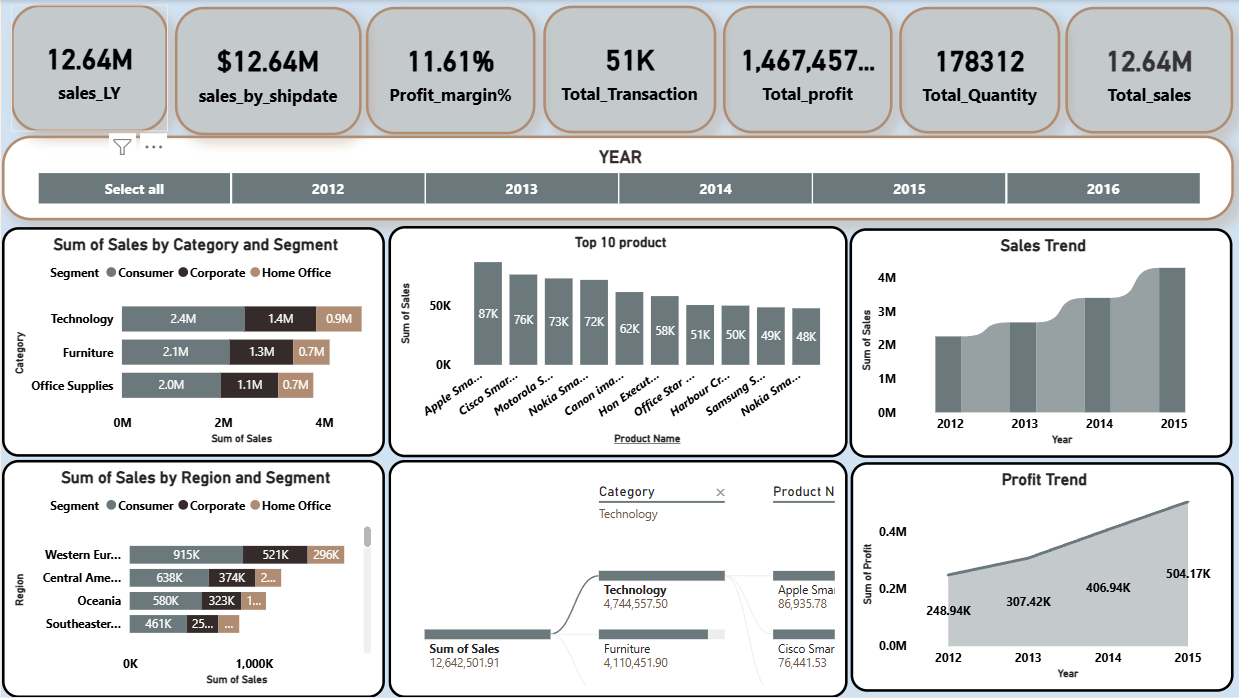

This screenshot's page, from the dashboard's own definition file:
{"tool":"powerbi","page":{"name":"Executive Summary","canvas":[1280,720],"ordinal":0},"visuals":[{"type":"card","fields":{"Values":["Measures_.Total_sales"]},"box":[1098.7,7.2,173.5,131.3],"z":0},{"type":"card","fields":{"Values":["Measures_.Total_Quantity"]},"box":[926.4,7.2,166.2,131.3],"z":1000},{"type":"card","fields":{"Values":["Measures_.Total_profit"]},"box":[744.8,5.8,175.1,131.9],"z":2000},{"type":"card","fields":{"Values":["Measures_.Total_Transaction"]},"box":[559.2,5.8,178.6,131.9],"z":3000},{"type":"card","fields":{"Values":["Measures_.Profit_margin%"]},"box":[375.9,7,175.1,131.9],"z":4000},{"type":"slicer","title":"YEAR","fields":{"Values":["Date_DIM.Year"]},"box":[0,140.1,1272.4,87.6],"z":5000},{"type":"card","fields":{"Values":["Measures_.sales_LY"]},"box":[9.3,4.7,162.3,131.9],"z":6000},{"type":"card","fields":{"Values":["Measures_.sales_by_shipdate"]},"box":[178.6,7,192.6,133.1],"z":7000},{"type":"barChart","fields":{"Y":["Sum(Fact_Table.Sales)"],"Category":["Fact_Table.Category"],"Series":["Fact_Table.Segment"]},"box":[0,234.9,395.1,237.3],"z":8000},{"type":"decompositionTreeVisual","fields":{"Analyze":["Sum(Fact_Table.Sales)"],"ExplainBy":["Fact_Table.Category","Fact_Table.Product Name","Fact_Table.Region"]},"box":[398.8,474.7,474.7,245.8],"z":9000},{"type":"barChart","fields":{"Y":["Sum(Fact_Table.Sales)"],"Category":["Fact_Table.Region"],"Series":["Fact_Table.Segment"]},"box":[0,474.7,395.1,245.8],"z":10000},{"type":"columnChart","title":"Top 10 product","fields":{"Y":["Sum(Fact_Table.Sales)"],"Category":["Fact_Table.Product Name"]},"box":[398.8,233.7,474.7,238.5],"z":11000},{"type":"ribbonChart","title":"Sales Trend","fields":{"Category":["Date_DIM.Year"],"Y":["Sum(Fact_Table.Sales)"]},"box":[875.8,236.1,395.1,237.3],"z":12000},{"type":"stackedAreaChart","title":"Profit Trend","fields":{"Category":["Date_DIM.Year"],"Y":["Sum(Fact_Table.Profit)"]},"box":[877,477.1,395.1,237.3],"z":13000}]}

Visuals, with their boxes in screenshot pixels (x1, y1, x2, y2), scaled from the page's 1280x720 canvas onto the 1239x698 screenshot:
card - Measures_.Total_sales: x1=1064, y1=7, x2=1231, y2=134
card - Measures_.Total_Quantity: x1=897, y1=7, x2=1058, y2=134
card - Measures_.Total_profit: x1=721, y1=6, x2=890, y2=133
card - Measures_.Total_Transaction: x1=541, y1=6, x2=714, y2=133
card - Measures_.Profit_margin%: x1=364, y1=7, x2=533, y2=135
"YEAR" slicer: x1=0, y1=136, x2=1232, y2=221
card - Measures_.sales_LY: x1=9, y1=5, x2=166, y2=132
card - Measures_.sales_by_shipdate: x1=173, y1=7, x2=359, y2=136
barChart - Sum(Fact_Table.Sales) x Fact_Table.Category: x1=0, y1=228, x2=382, y2=458
decompositionTreeVisual - Sum(Fact_Table.Sales) x Fact_Table.Category: x1=386, y1=460, x2=846, y2=697
barChart - Sum(Fact_Table.Sales) x Fact_Table.Region: x1=0, y1=460, x2=382, y2=697
"Top 10 product" columnChart: x1=386, y1=227, x2=846, y2=458
"Sales Trend" ribbonChart: x1=848, y1=229, x2=1230, y2=459
"Profit Trend" stackedAreaChart: x1=849, y1=463, x2=1231, y2=693
